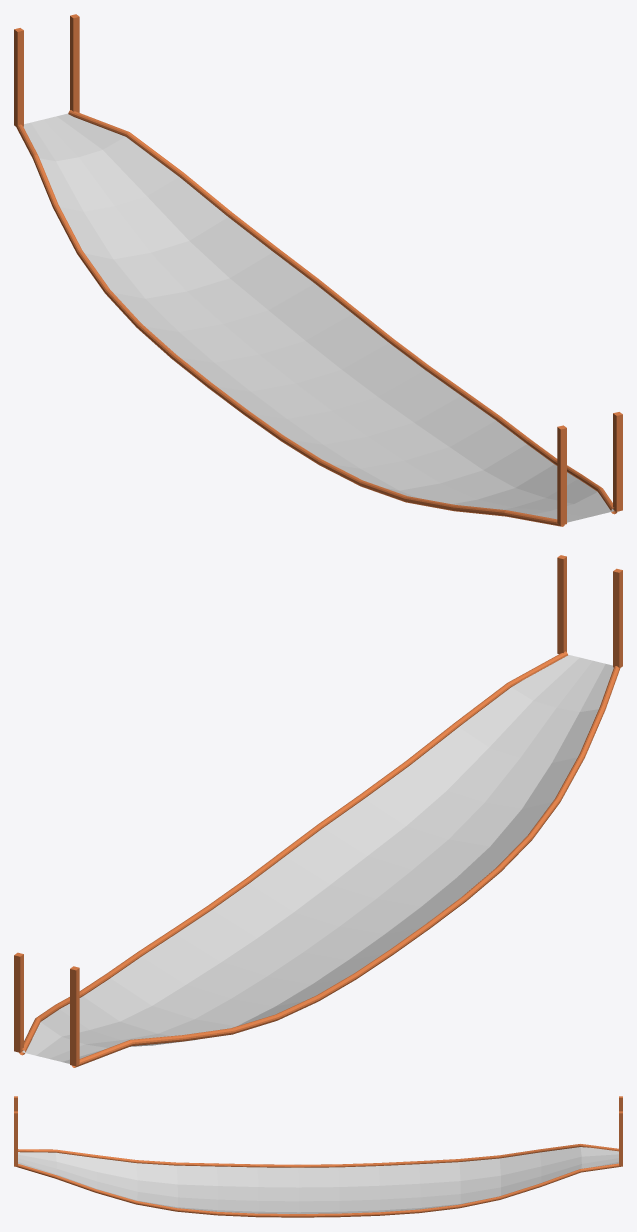
The model's file is net2.fbx.
3 views of the same model, one above another, from view 1: azimuth 30°, elevation 25°; view 2: azimuth 150°, elevation 25°; view 3: azimuth 270°, elevation 25° (orthographic). The views are drawn at different scales.
Visible parts, largest first — view 1: SM_net; view 2: SM_net; view 3: SM_net.
Part boxes in pixels (box(x1,y1,x2,y2)): SM_net: box(14, 14, 622, 526); SM_net: box(14, 555, 622, 1067); SM_net: box(14, 1096, 622, 1217).
Size of what is drawn, in the model's own units: 206 by 185 by 1044.
